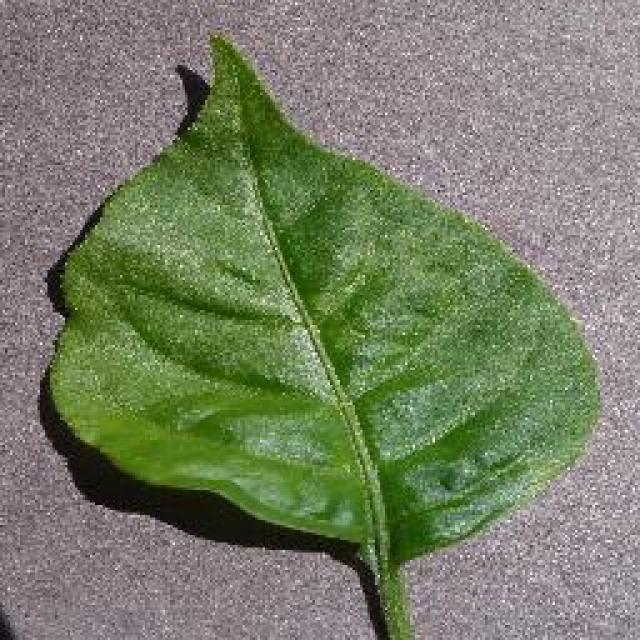Leaf: (30, 9, 619, 608)
